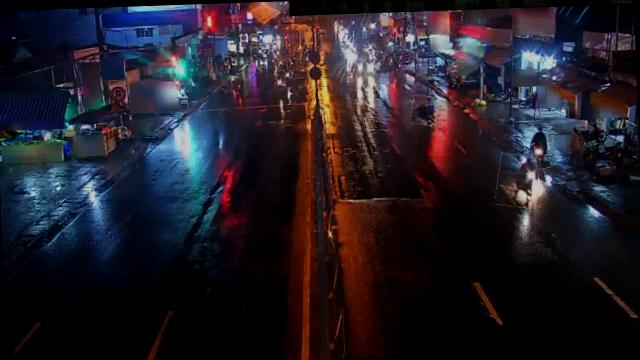Bike: (496, 154, 540, 208), (524, 132, 550, 170), (411, 95, 438, 126), (576, 122, 606, 146), (274, 72, 286, 90), (235, 73, 244, 92)
